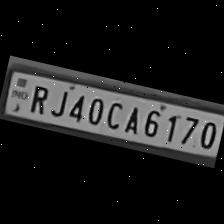0: (193, 116, 220, 150), (82, 92, 108, 126)
1: (158, 109, 182, 144)
4: (64, 89, 89, 123)
6: (137, 104, 164, 140)
7: (174, 112, 200, 147)
A: (119, 101, 143, 135)
C: (101, 96, 126, 130)
J: (47, 84, 71, 119)
R: (24, 80, 52, 116)
